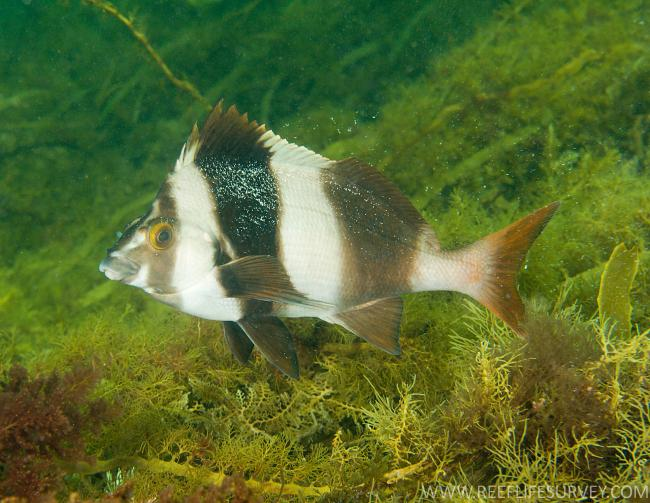fish: (99, 97, 560, 383)
